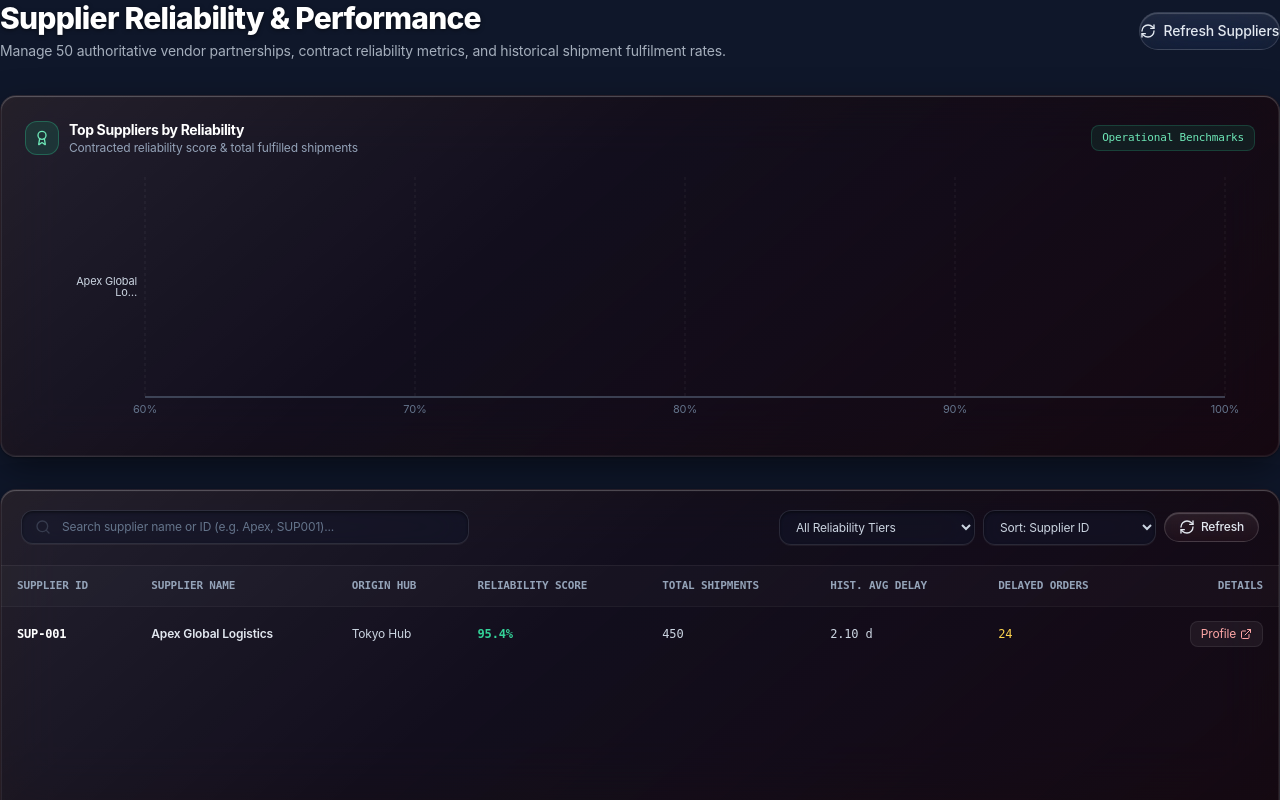
Test: Suppliers Page › renders supplier table and formats reliability percentage correctly
Expected: the heading "Supplier Reliability & Performance" is shown, x1=0 y1=0 x2=481 y2=36
Expected: the text "Apex Global Logistics" is shown, x1=135 y1=606 x2=336 y2=661
// Click profile button to inspect modal
Click the button "Profile" at (1226, 634), box x1=1190 y1=621 x2=1263 y2=647
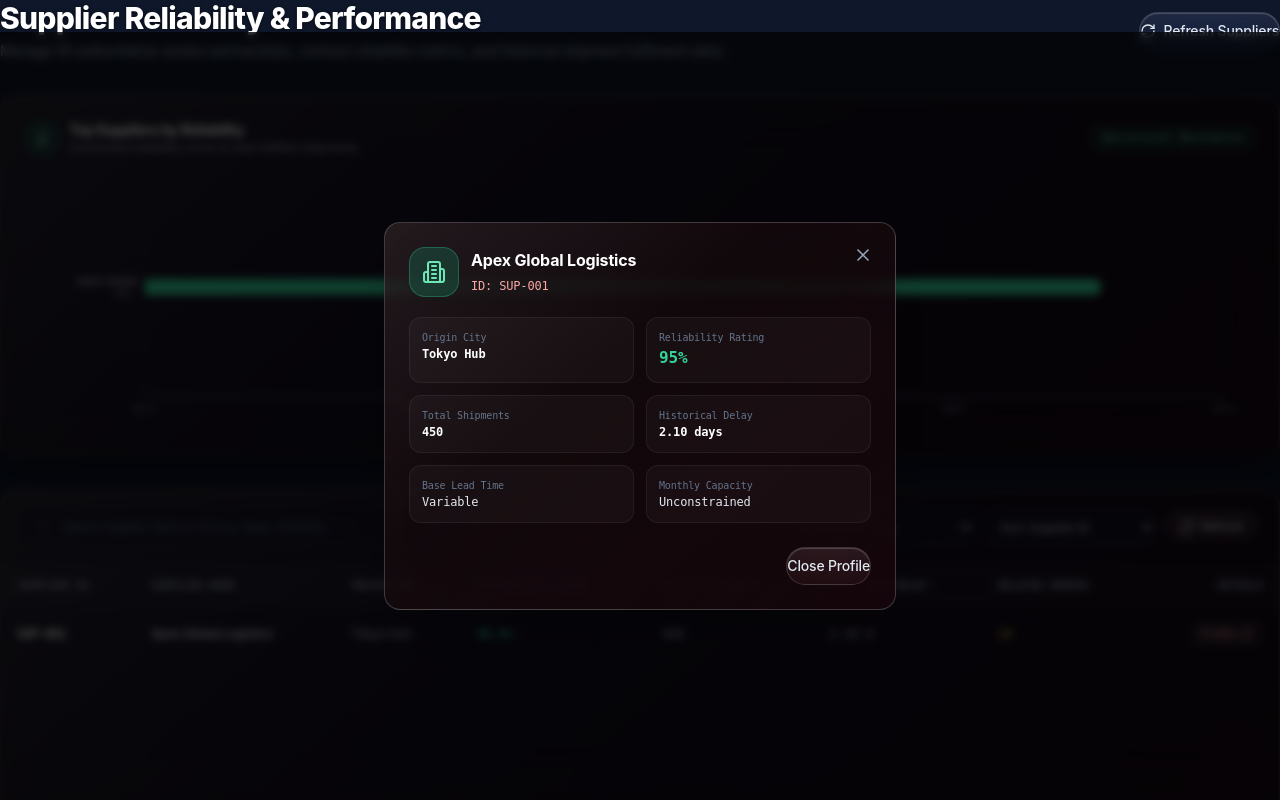
Result: the text "Origin City" is shown at x1=422 y1=332 x2=486 y2=343
Result: the text "Historical Delay" is shown at x1=659 y1=410 x2=752 y2=421
Result: the text "2.10 days" is shown at x1=659 y1=425 x2=722 y2=439
